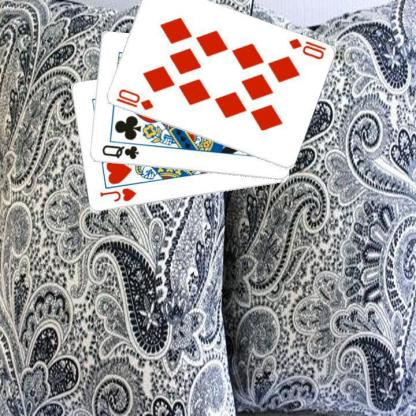10D: (285, 35, 327, 61), (114, 86, 154, 112)
JH: (97, 186, 137, 204)
QC: (99, 143, 140, 161)
